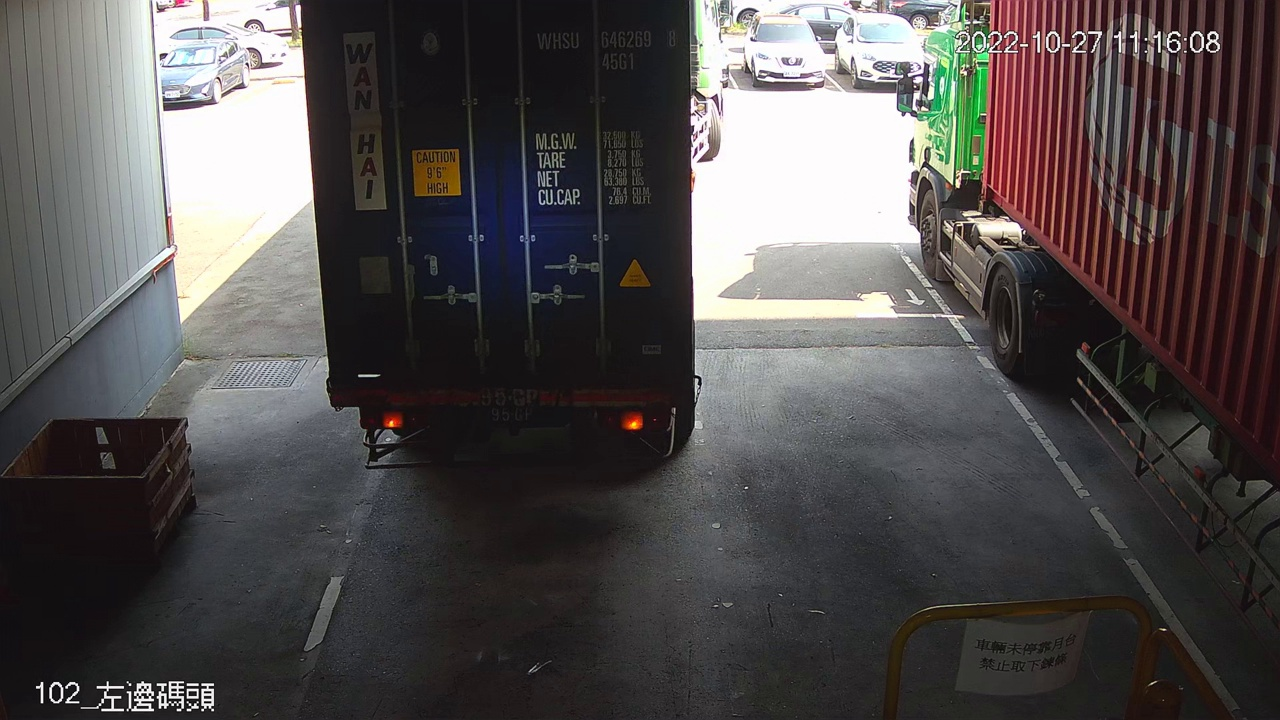container: (530, 21, 682, 76)
